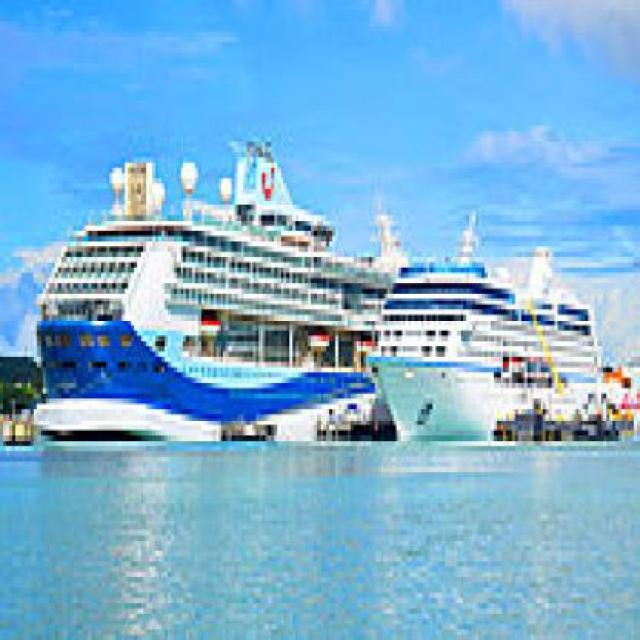cruise: (22, 117, 409, 437), (369, 247, 611, 463)
